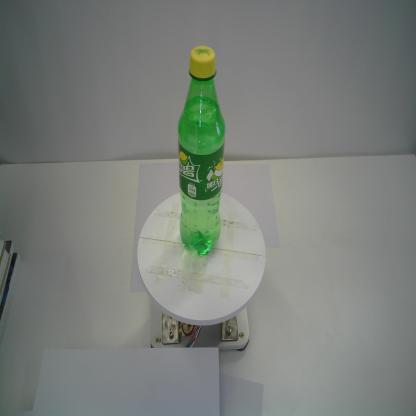Drink: (177, 44, 225, 257)
